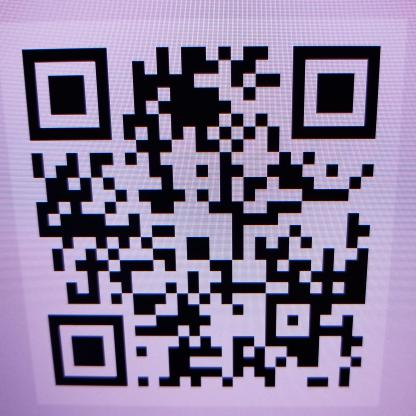qr: (14, 41, 385, 397)
